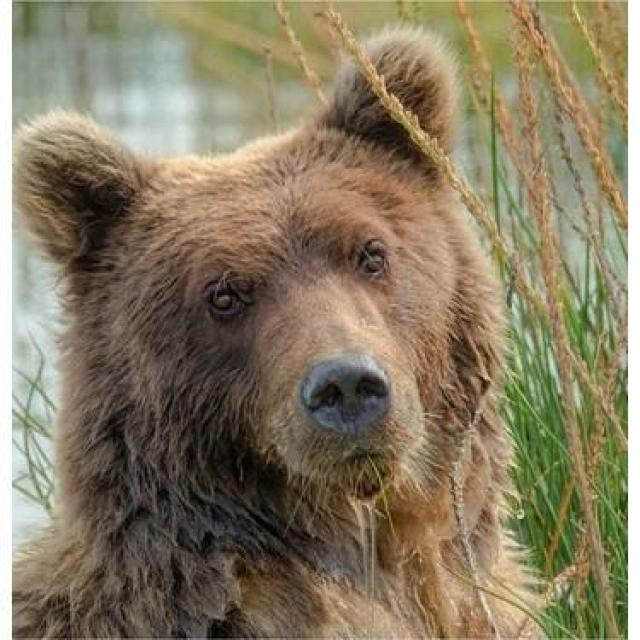Bear: (14, 22, 548, 640)
